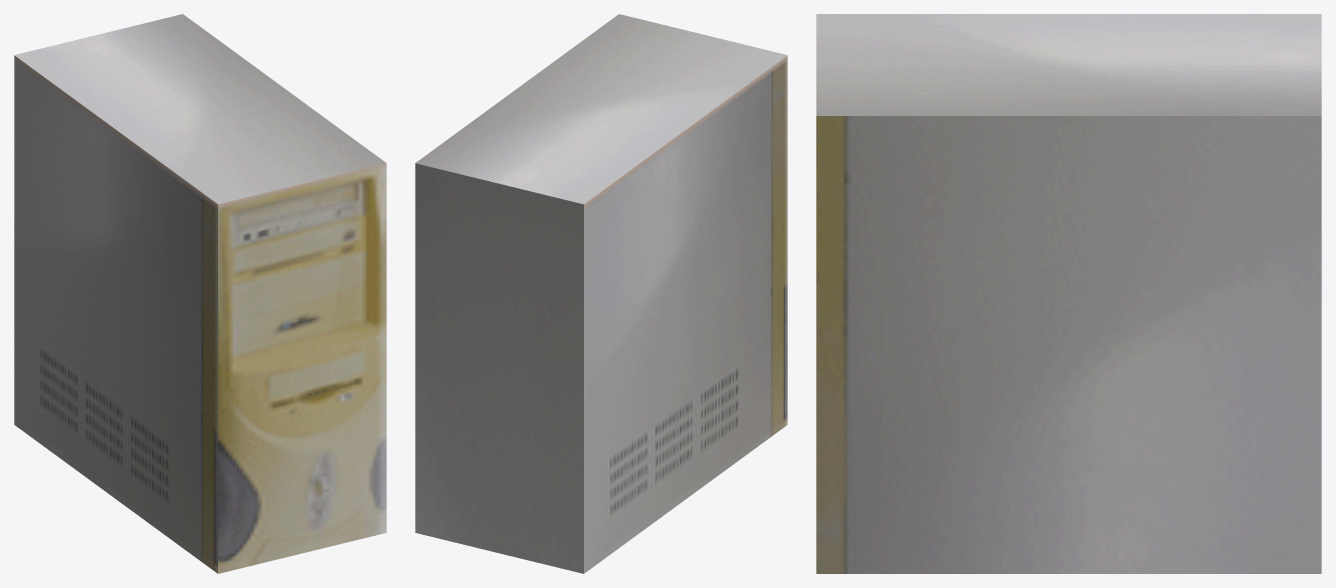
3 views of the same model, side by side, from view 1: azimuth 30°, elevation 25°; view 2: azimuth 150°, elevation 25°; view 3: azimuth 270°, elevation 25° (orthographic). The views are drawn at different scales.
Parts seen in each view (by area): view 1: System unit_Material.001_0; view 2: System unit_Material.001_0; view 3: System unit_Material.001_0.
Part boxes in pixels (bbox=[...]): System unit_Material.001_0: bbox=[14, 14, 386, 573]; System unit_Material.001_0: bbox=[415, 14, 787, 573]; System unit_Material.001_0: bbox=[816, 14, 1321, 573].
Bounding box in the file's own units: 37.82 × 79.17 × 79.17.
1 material, 1 textured.
